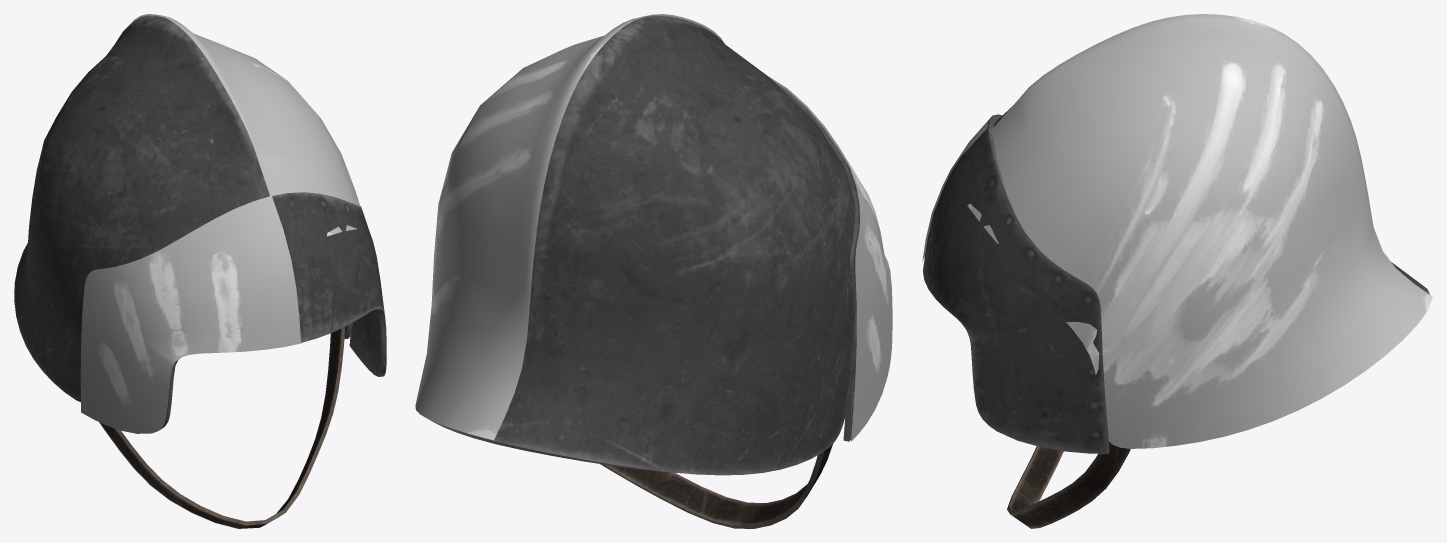
File: sk_uruk_hai_helmet_skir_a3.fbx
3 renders of one model, left to right at view 1: azimuth 30°, elevation 25°; view 2: azimuth 150°, elevation 25°; view 3: azimuth 270°, elevation 25°, orthographic. The views are drawn at different scales.
Visible parts, largest first — view 1: sk_uruk_hai_helmet_skir_a3.2, sk_uruk_hai_helmet_skir_a3.0, sk_uruk_hai_helmet_skir_a3.1; view 2: sk_uruk_hai_helmet_skir_a3.2, sk_uruk_hai_helmet_skir_a3.0, sk_uruk_hai_helmet_skir_a3.1; view 3: sk_uruk_hai_helmet_skir_a3.0, sk_uruk_hai_helmet_skir_a3.2, sk_uruk_hai_helmet_skir_a3.1.
Part boxes in pixels (x1=…): sk_uruk_hai_helmet_skir_a3.2: x1=14, y1=15, x2=386, y2=430; sk_uruk_hai_helmet_skir_a3.0: x1=80, y1=14, x2=360, y2=433; sk_uruk_hai_helmet_skir_a3.1: x1=99, y1=327, x2=344, y2=528; sk_uruk_hai_helmet_skir_a3.2: x1=430, y1=16, x2=859, y2=475; sk_uruk_hai_helmet_skir_a3.0: x1=415, y1=14, x2=892, y2=441; sk_uruk_hai_helmet_skir_a3.1: x1=600, y1=444, x2=832, y2=528; sk_uruk_hai_helmet_skir_a3.0: x1=922, y1=14, x2=1432, y2=448; sk_uruk_hai_helmet_skir_a3.2: x1=923, y1=107, x2=1429, y2=453; sk_uruk_hai_helmet_skir_a3.1: x1=1007, y1=442, x2=1130, y2=528.
Bounding box in the file's own units: 0.2082 × 0.2898 × 0.3162.
3 materials, 3 textured.
